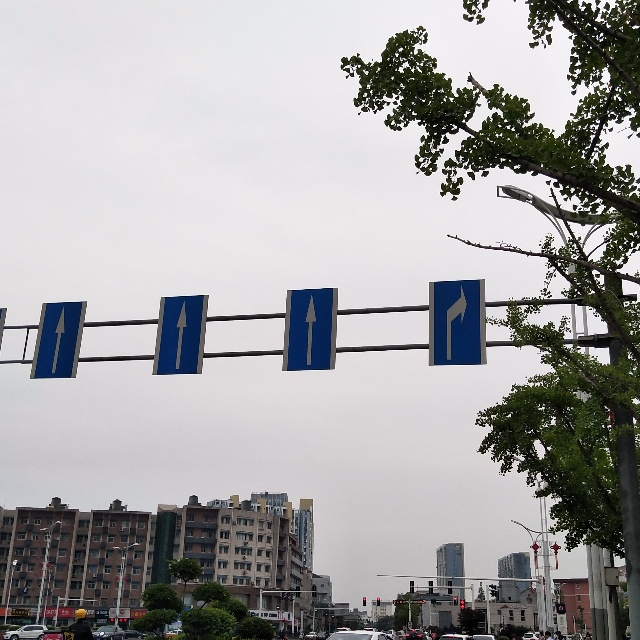right: (430, 282, 487, 362)
straight: (287, 293, 338, 372), (161, 301, 203, 374), (40, 303, 78, 378)
